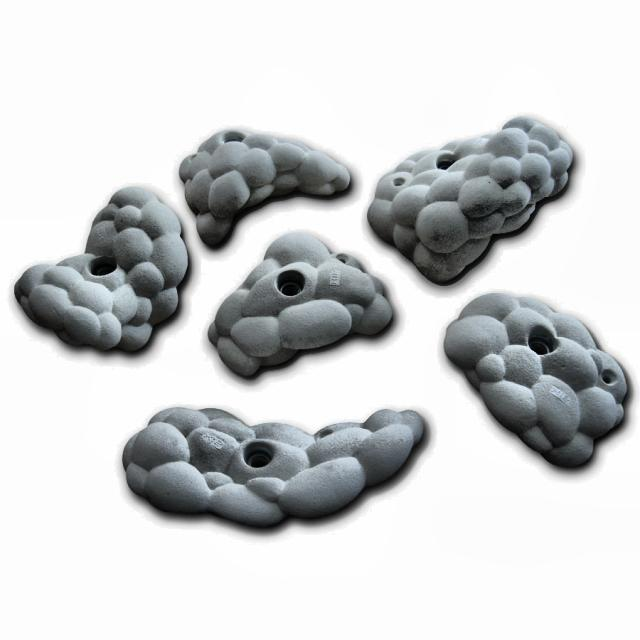Hold: (127, 399, 435, 522), (371, 110, 578, 286), (454, 302, 632, 473), (18, 185, 184, 358), (207, 242, 391, 374), (182, 123, 356, 247)
